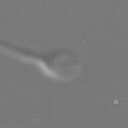normal: (1, 36, 43, 72)
